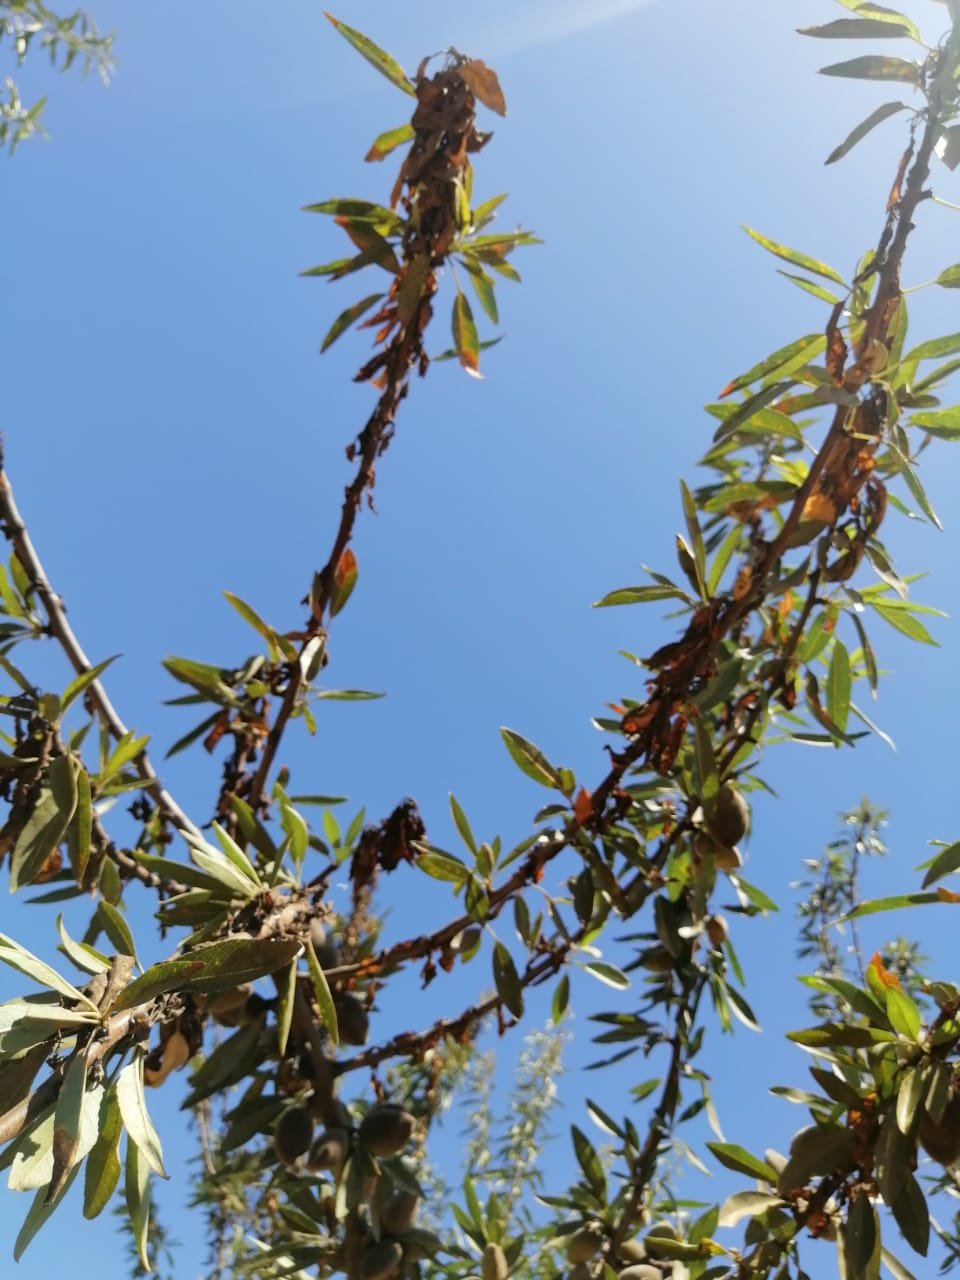scolytes: (202, 48, 501, 760), (526, 294, 883, 879)
